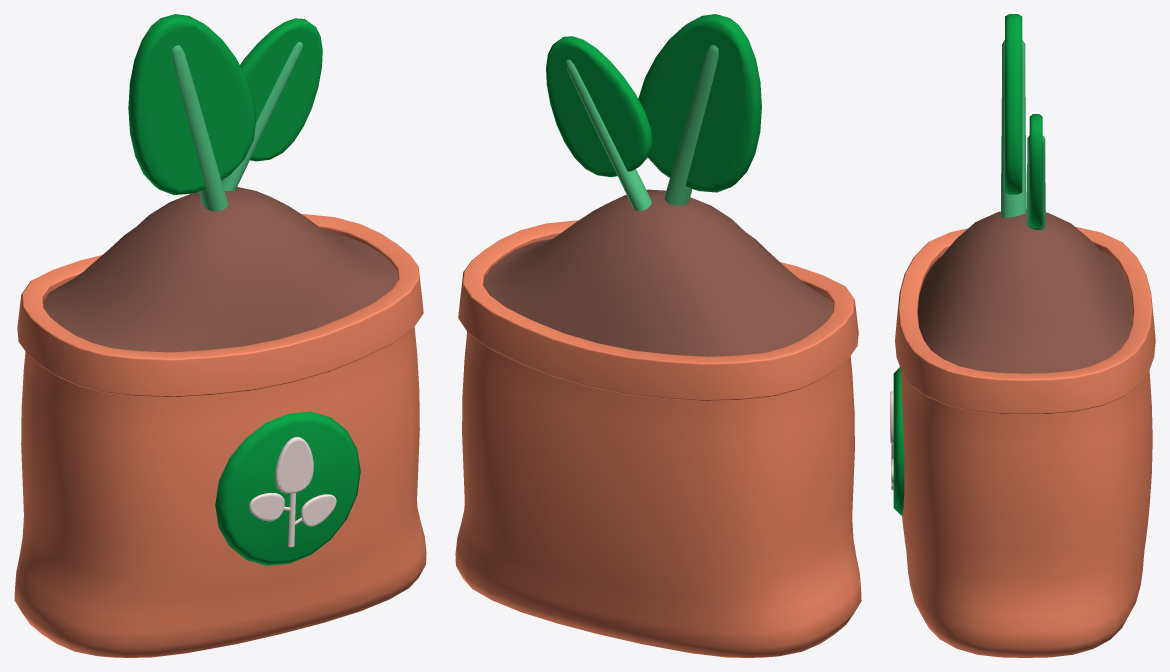
Rendered from Farm_20_Bag_with_Plant_2.glb.
3 views of the same model, side by side, from view 1: azimuth 30°, elevation 25°; view 2: azimuth 150°, elevation 25°; view 3: azimuth 270°, elevation 25° (orthographic). The views are drawn at different scales.
Visible parts, largest first — view 1: Farm_20_Bag_with_Plant_2; view 2: Farm_20_Bag_with_Plant_2; view 3: Farm_20_Bag_with_Plant_2.
Boxes of the visible parts, <box> form: Farm_20_Bag_with_Plant_2: <box>14,14,426,657</box>; Farm_20_Bag_with_Plant_2: <box>455,14,861,657</box>; Farm_20_Bag_with_Plant_2: <box>890,14,1155,657</box>.
Size of the model in its own units: 0.5 by 0.772 by 0.3392.
Materials: 1 (1 with a texture image).
